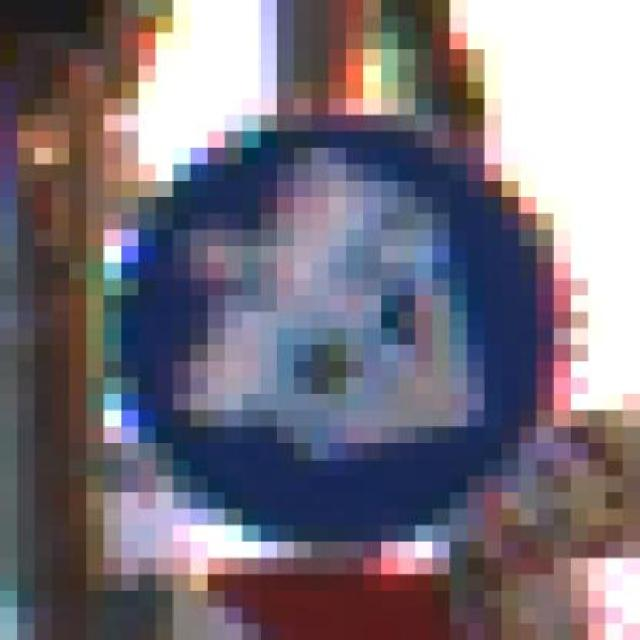Keep-Right: (86, 82, 588, 590)
